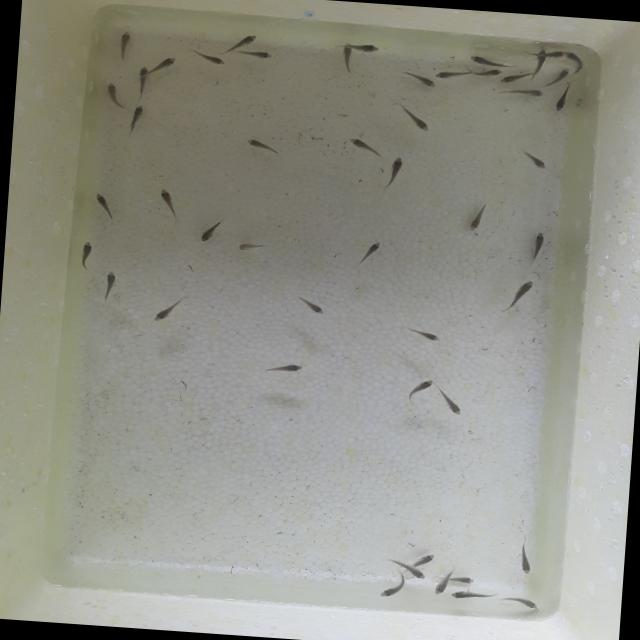fingerling: (506, 276, 538, 312), (434, 386, 468, 418), (374, 567, 406, 600), (258, 358, 306, 378), (99, 79, 129, 110), (403, 376, 436, 404), (501, 592, 543, 612), (90, 191, 118, 221), (156, 294, 187, 321), (466, 200, 491, 233), (290, 293, 327, 315), (496, 84, 546, 100), (449, 586, 496, 603), (348, 138, 387, 158), (516, 148, 548, 172), (382, 156, 406, 188), (516, 534, 534, 576), (232, 47, 278, 63), (402, 108, 434, 130), (115, 26, 134, 63), (198, 218, 225, 244), (76, 237, 96, 272), (226, 30, 260, 50), (402, 326, 444, 342), (406, 549, 438, 569), (132, 65, 150, 100), (429, 572, 456, 595), (155, 186, 177, 212), (148, 54, 178, 73), (190, 53, 228, 68), (336, 42, 356, 70), (408, 72, 438, 90), (360, 240, 382, 264), (564, 48, 588, 70), (128, 104, 147, 130), (250, 138, 282, 153), (531, 230, 548, 258), (432, 66, 466, 80), (355, 42, 384, 58), (500, 70, 533, 84), (545, 68, 571, 85), (101, 272, 118, 298), (470, 54, 508, 65), (552, 88, 568, 112), (470, 66, 502, 78), (532, 48, 548, 71), (236, 240, 268, 251), (454, 573, 478, 587), (546, 46, 564, 64), (408, 568, 431, 582)
